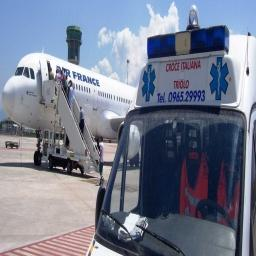ambulance: (87, 6, 255, 255)
